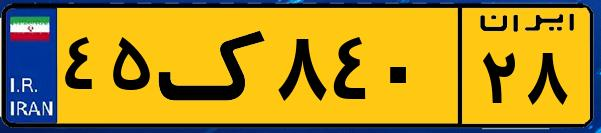0: (385, 28, 445, 110)
2: (475, 38, 525, 113)
4: (330, 28, 385, 110), (57, 26, 110, 100)
5: (110, 28, 158, 98)
8: (270, 28, 330, 110), (525, 38, 570, 115)
ک: (158, 12, 270, 120)
